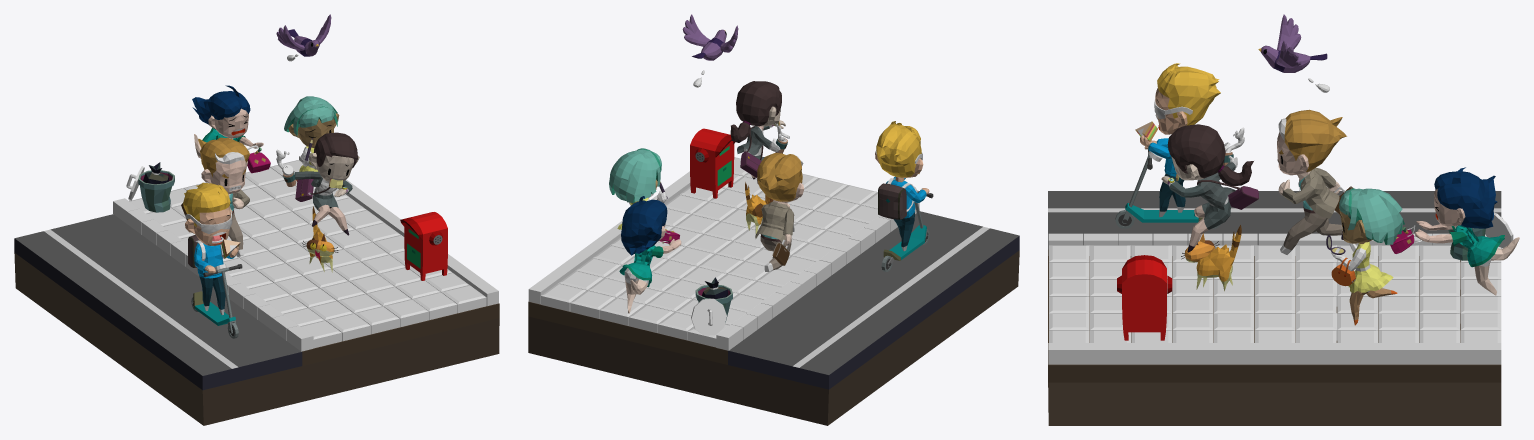
The model's file is 0090_yura_late.fbx.
3 views of the same model, side by side, from view 1: azimuth 30°, elevation 25°; view 2: azimuth 150°, elevation 25°; view 3: azimuth 270°, elevation 25° (orthographic). The views are drawn at different scales.
Parts seen in each view (by area): view 1: Plate, Block02 (×15), Block01 (×10), Mailbox01, Man01_Head, Woman02_head, Man02_Face, Woman01_Head, Yura_Head, Block06, Dustbin01, Bird01 (+14 smaller); view 2: Plate, Block02 (×15), Block01 (×7), Mailbox01, Woman01_Head, Man01_Head, Yura_Head, Woman02_head, Block06, Man02_Face, Bird01, Dustbin02 (+14 smaller); view 3: Plate, Block02 (×26), Block06, Block01 (×14), Mailbox01, Yura_Head, Man02_Face, Woman02_head, Man01_Head, Woman01_Head, Bird01, Cat_body (+35 smaller).
Part boxes in pixels (x1,y1,x2,y2): Plate: [14, 214, 499, 425]; Block02 (×15): [238, 199, 486, 341]; Block01 (×10): [240, 211, 457, 348]; Mailbox01: [400, 212, 447, 280]; Man01_Head: [183, 182, 232, 245]; Woman02_head: [192, 85, 250, 138]; Man02_Face: [198, 137, 249, 193]; Woman01_Head: [284, 96, 339, 148]; Yura_Head: [309, 132, 359, 181]; Block06: [299, 156, 498, 306]; Dustbin01: [138, 170, 174, 212]; Bird01: [276, 14, 331, 56]; Plate: [528, 211, 1019, 425]; Block02 (×15): [541, 185, 877, 340]; Block01 (×7): [593, 189, 859, 279]; Mailbox01: [690, 128, 735, 198]; Woman01_Head: [609, 148, 661, 202]; Man01_Head: [875, 121, 923, 182]; Yura_Head: [730, 81, 781, 142]; Woman02_head: [621, 196, 667, 255]; Block06: [528, 171, 690, 304]; Man02_Face: [757, 153, 804, 202]; Bird01: [682, 14, 738, 60]; Dustbin02: [691, 298, 726, 335]; Plate: [1048, 191, 1501, 425]; Block02 (×26): [1049, 245, 1501, 342]; Block06: [1048, 343, 1501, 364]; Block01 (×14): [1049, 245, 1460, 342]; Mailbox01: [1122, 255, 1166, 340]; Yura_Head: [1167, 124, 1253, 185]; Man02_Face: [1277, 109, 1346, 175]; Woman02_head: [1434, 167, 1497, 228]; Man01_Head: [1155, 63, 1220, 134]; Woman01_Head: [1339, 188, 1404, 244]; Bird01: [1258, 14, 1327, 72]; Cat_body: [1196, 225, 1241, 291].
Bounding box in the file's own units: 7.8 × 7.18 × 8.92.
